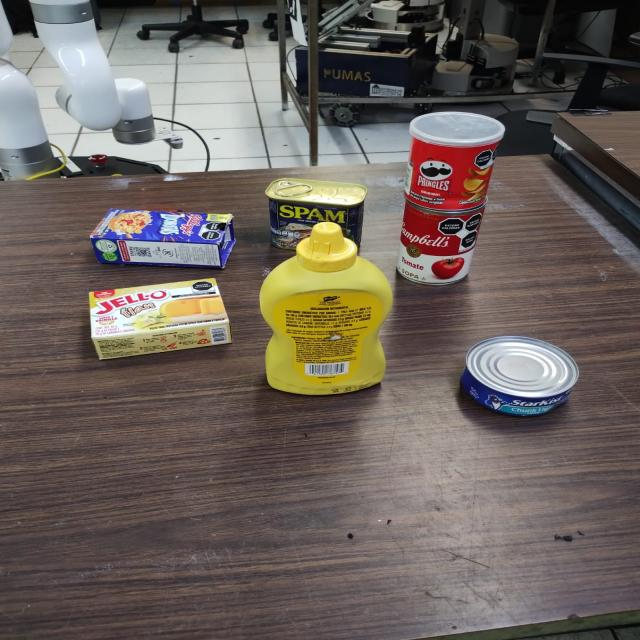can of cream: (398, 195, 484, 288)
can of tuna: (459, 337, 577, 414)
cereal: (87, 208, 235, 269)
chips: (403, 112, 503, 210)
jelly: (87, 278, 235, 360)
mustard: (264, 224, 399, 398)
spam: (264, 178, 368, 250)
